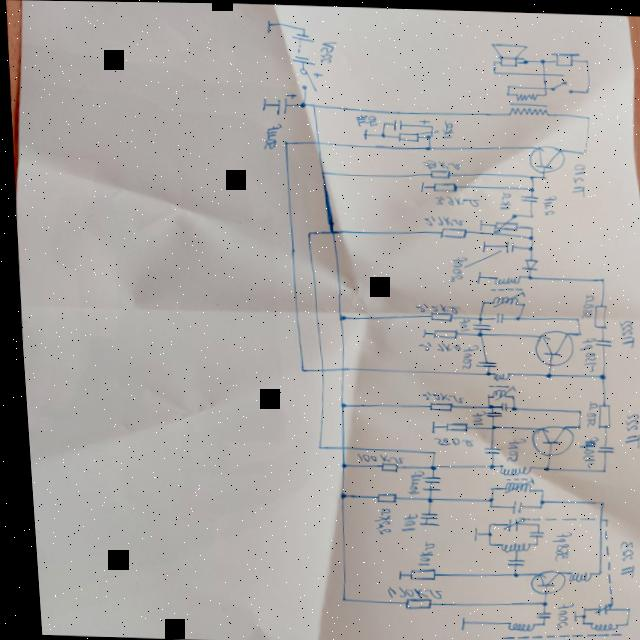capacitor: (272, 92, 297, 116), (495, 514, 520, 533), (584, 598, 607, 616), (414, 471, 439, 483), (591, 441, 612, 453), (501, 500, 520, 513), (517, 192, 536, 205), (467, 320, 490, 330), (499, 239, 514, 253), (498, 556, 519, 566), (527, 607, 544, 618), (388, 116, 403, 128), (472, 359, 494, 367), (479, 408, 500, 416), (519, 527, 540, 535), (590, 336, 609, 344), (478, 444, 496, 452), (490, 311, 501, 323), (495, 400, 503, 410)
crossover: (333, 364, 344, 371), (325, 227, 335, 234), (313, 365, 321, 372), (334, 444, 342, 450), (590, 515, 598, 520), (314, 139, 320, 145)
diode: (518, 256, 536, 269)
ground: (411, 510, 434, 524), (450, 614, 459, 630), (258, 96, 267, 110), (264, 18, 273, 32), (471, 269, 480, 283), (425, 418, 433, 432), (466, 525, 473, 540), (478, 237, 485, 251), (417, 178, 424, 190), (360, 127, 367, 139), (476, 217, 482, 229), (389, 567, 395, 579), (564, 608, 570, 620), (416, 326, 423, 336)
inductor: (486, 613, 618, 640), (491, 539, 524, 552)
junction: (333, 312, 344, 320), (503, 569, 513, 577), (418, 495, 429, 502), (524, 183, 535, 190), (481, 461, 491, 468), (523, 243, 533, 250), (298, 100, 308, 107), (332, 490, 340, 498), (536, 463, 545, 470), (524, 232, 533, 239), (593, 371, 603, 377), (333, 461, 343, 467), (334, 400, 342, 407), (332, 595, 340, 602), (523, 272, 531, 279), (569, 313, 577, 320), (582, 87, 591, 93), (423, 143, 432, 149), (293, 366, 302, 372), (490, 67, 499, 73), (530, 500, 539, 506), (507, 211, 516, 217), (540, 371, 548, 377), (532, 497, 540, 503), (481, 495, 489, 501), (532, 485, 540, 491), (423, 462, 431, 468), (596, 274, 604, 280), (583, 113, 591, 119), (617, 604, 625, 610), (310, 443, 318, 449), (578, 148, 586, 154), (425, 448, 433, 454), (317, 169, 325, 175), (476, 297, 484, 303), (281, 139, 289, 145), (303, 229, 311, 235), (482, 484, 490, 490), (481, 502, 489, 508), (484, 422, 492, 428), (510, 313, 518, 319), (472, 330, 480, 336), (505, 403, 513, 409), (482, 401, 490, 407), (424, 132, 432, 138), (532, 599, 540, 605), (480, 530, 487, 536), (526, 222, 532, 229), (310, 101, 316, 108), (526, 211, 533, 217), (481, 520, 487, 526), (584, 56, 590, 62), (473, 314, 479, 320), (481, 368, 487, 374), (571, 405, 577, 411), (379, 130, 385, 136), (540, 56, 546, 62), (527, 173, 533, 179), (593, 499, 600, 504), (573, 329, 580, 334), (589, 569, 596, 574), (539, 173, 547, 177), (616, 619, 622, 624), (300, 25, 306, 30), (571, 422, 577, 427), (380, 119, 386, 124), (503, 90, 510, 94), (526, 540, 533, 544), (596, 467, 602, 471), (480, 541, 486, 545), (572, 612, 578, 616), (533, 620, 539, 624), (574, 605, 580, 609), (572, 619, 578, 623), (505, 82, 511, 86), (491, 58, 497, 62), (528, 520, 534, 524), (428, 123, 432, 127)
resistor: (488, 216, 518, 233), (394, 595, 425, 610), (588, 302, 606, 326), (591, 401, 606, 427), (559, 567, 586, 581), (400, 565, 429, 578), (435, 225, 465, 237), (552, 51, 577, 64), (422, 399, 448, 411), (439, 419, 464, 431), (428, 181, 457, 191), (369, 490, 392, 502), (428, 328, 454, 338), (425, 310, 450, 320), (427, 168, 451, 178), (395, 131, 420, 139), (373, 461, 393, 471)
source: (288, 31, 317, 64)
switch: (544, 76, 579, 95), (297, 66, 319, 91)
text: (376, 583, 435, 599), (542, 527, 569, 560), (573, 333, 596, 371), (616, 410, 639, 446), (573, 432, 596, 468), (610, 538, 631, 576), (567, 160, 587, 195), (545, 598, 569, 627), (429, 192, 478, 206), (260, 121, 283, 150), (407, 538, 431, 565), (411, 300, 460, 313), (420, 212, 463, 226), (416, 388, 460, 401), (445, 254, 466, 281), (426, 434, 469, 447), (614, 317, 633, 346), (455, 342, 476, 368), (498, 435, 519, 461), (367, 505, 386, 533), (317, 39, 339, 63), (349, 451, 400, 461), (420, 157, 461, 169), (413, 339, 457, 350), (575, 292, 592, 318), (538, 192, 557, 215), (401, 469, 418, 494), (579, 398, 594, 426), (394, 511, 411, 531), (453, 311, 468, 333), (354, 112, 378, 125), (464, 408, 481, 424), (440, 119, 455, 137), (495, 190, 510, 208), (310, 70, 325, 76)
transformer: (492, 462, 533, 493), (485, 275, 524, 306), (506, 89, 549, 116), (480, 368, 515, 399)
transistor: (527, 328, 572, 363), (525, 422, 569, 454), (527, 142, 566, 172), (521, 567, 560, 595)
